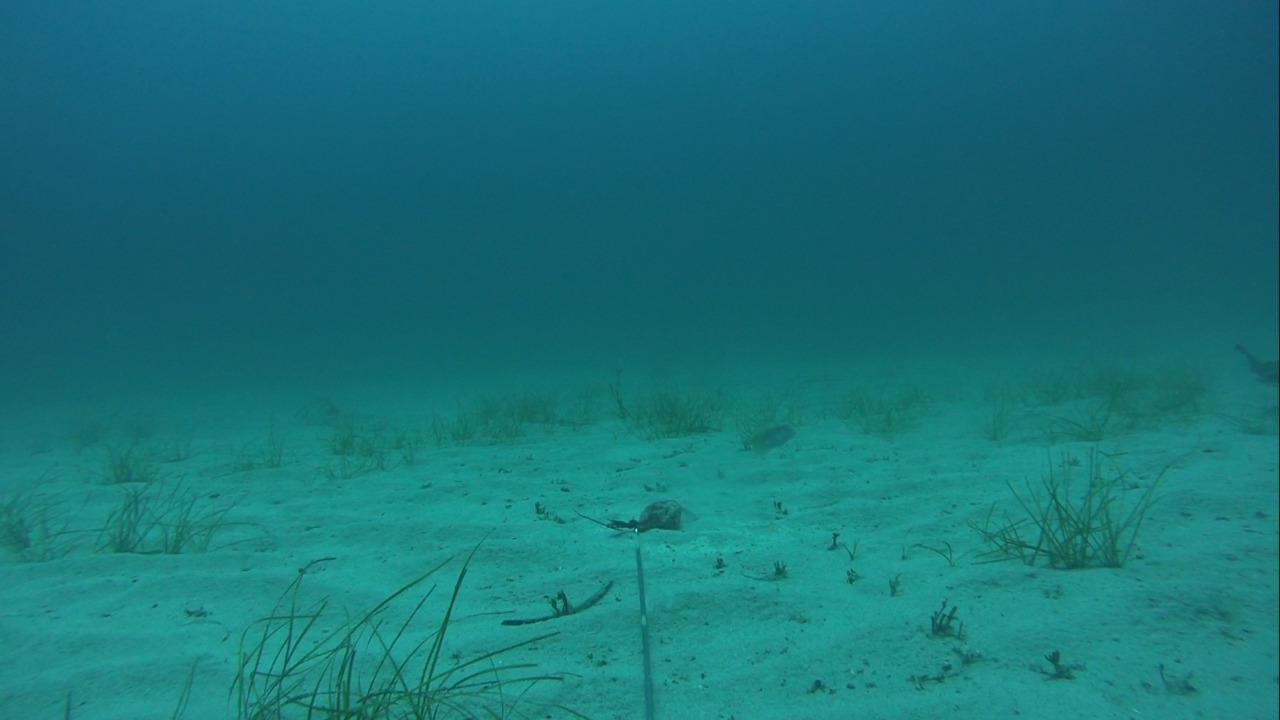myliobatis: (1211, 331, 1279, 390)
raor: (733, 417, 792, 458)
